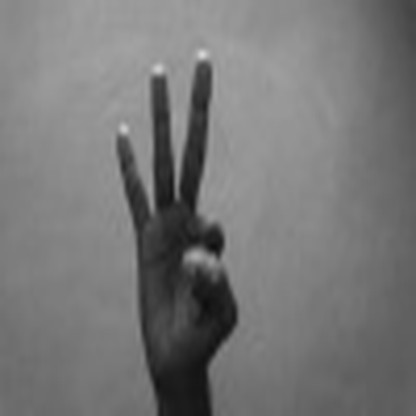f: (111, 42, 241, 373)
